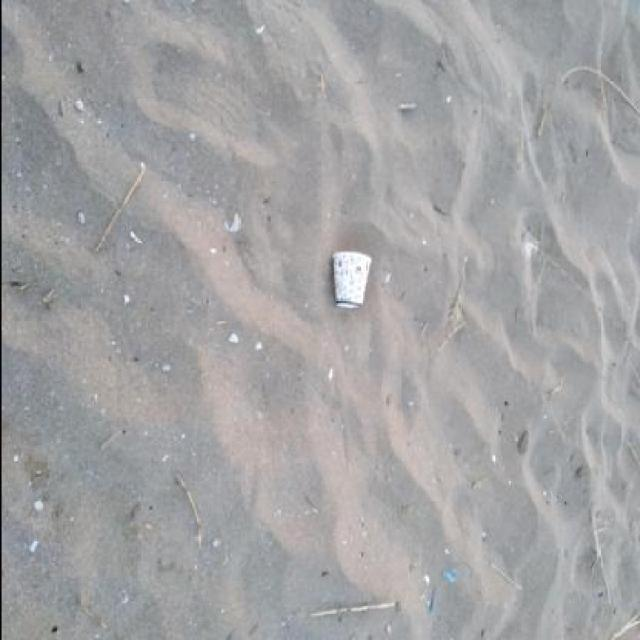cardboard: (331, 251, 371, 309)
